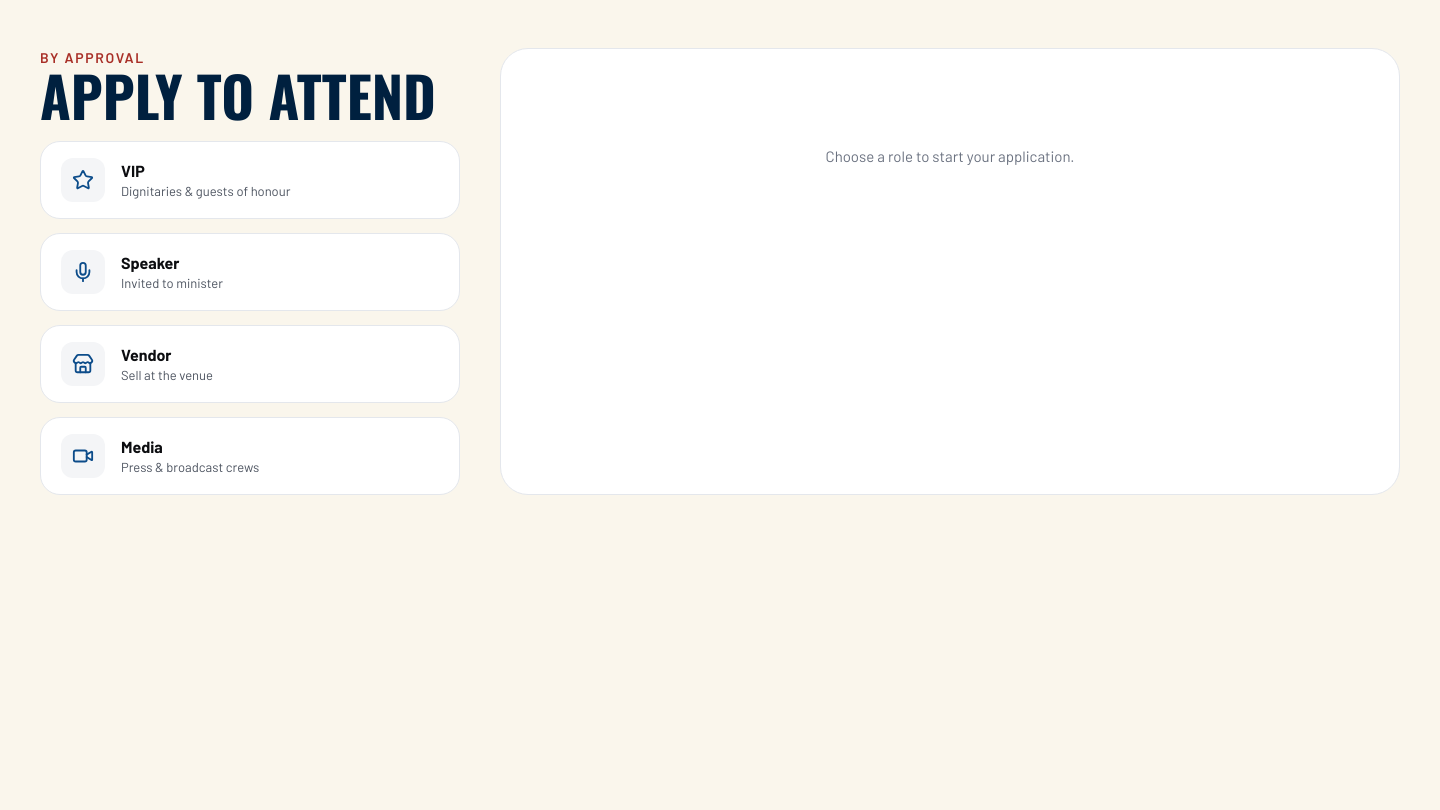
Test: Apply (desktop) › shows the roles and the form side by side
The image size is (1440, 810).
Check: the heading "Apply to attend" is shown, box [40, 68, 460, 121]
Check: the text "Choose a role to start your application." is shown, box [826, 147, 1074, 165]
Click the radio button labelled "Vendor Sell at the venue" at point(83, 364), box [40, 325, 460, 403]
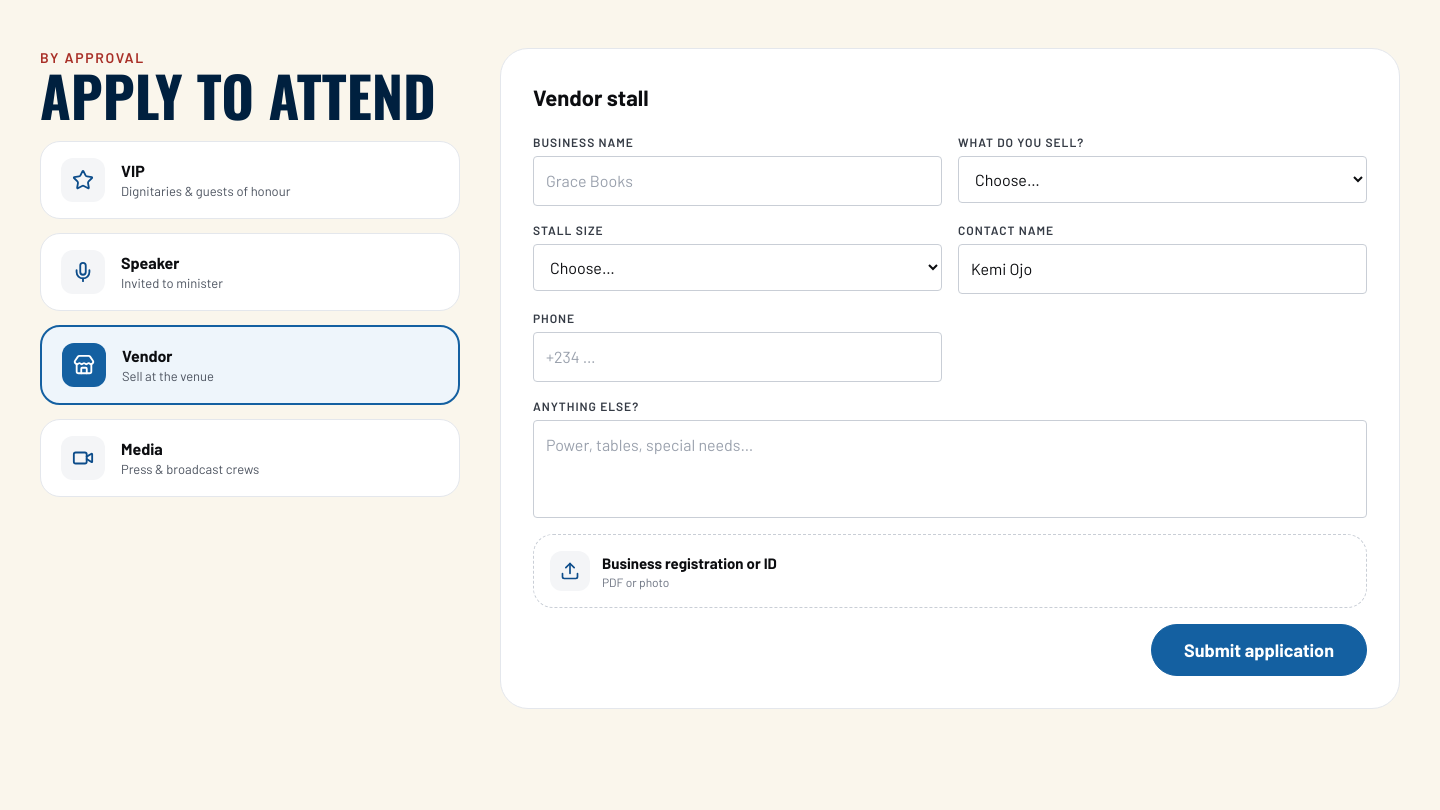
Check: the heading "Vendor stall" is shown, box [533, 84, 649, 110]
Check: the dropdown labelled "Stall size" is shown, box [533, 244, 942, 291]
